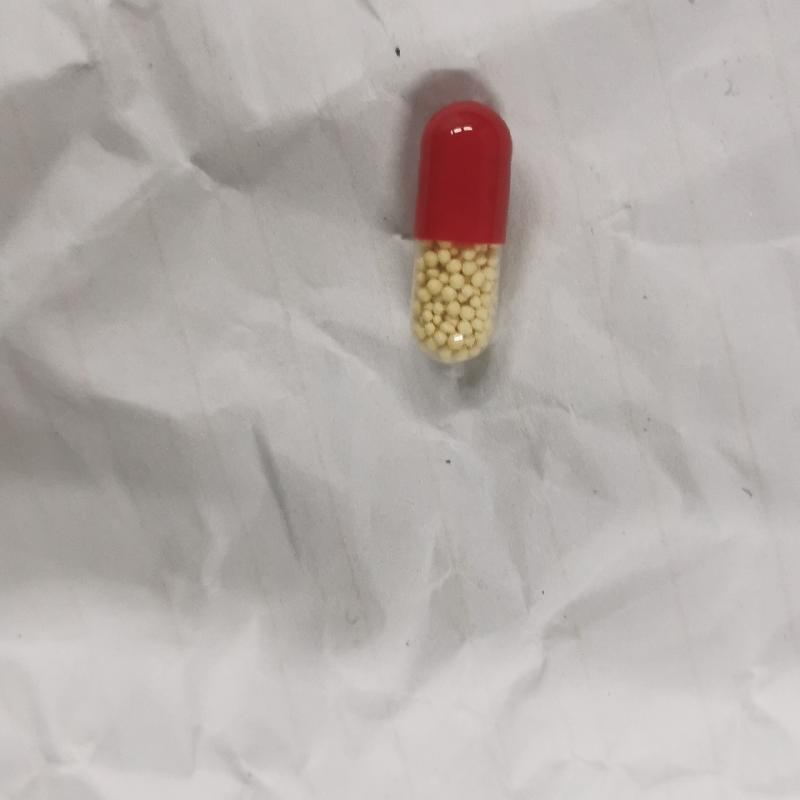pills: (389, 94, 516, 373)
